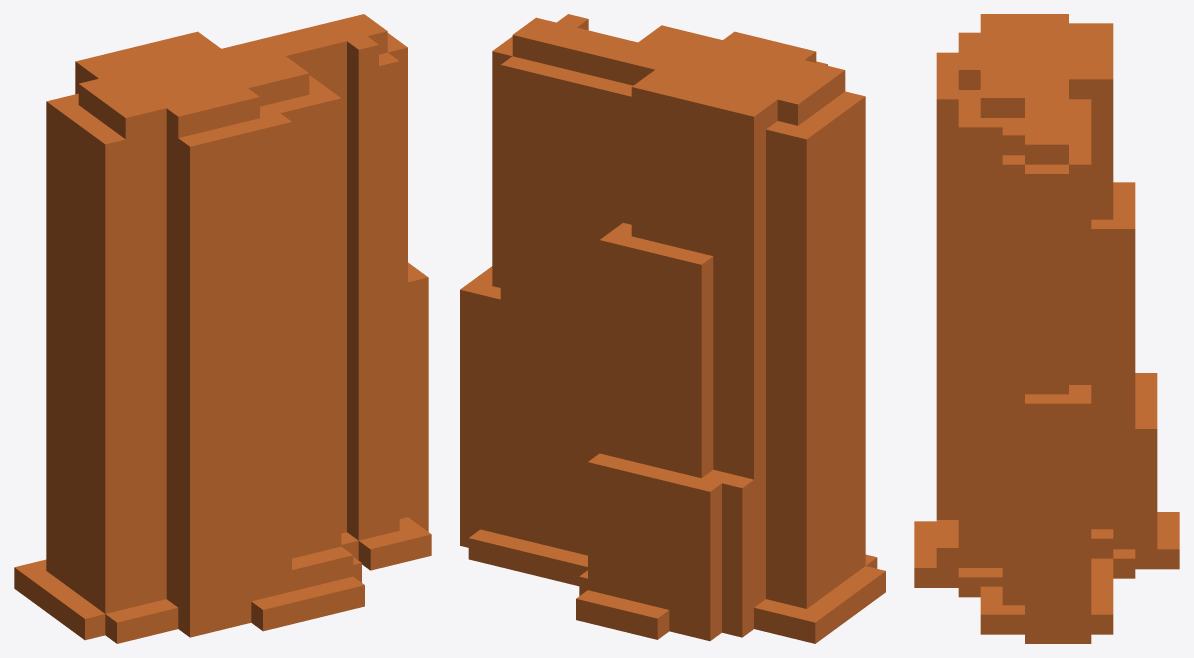
Rendered from Elm_2.obj.
The picture shows the model from 3 angles, left to right: view 1: azimuth 30°, elevation 25°; view 2: azimuth 150°, elevation 25°; view 3: azimuth 270°, elevation 25°; orthographic projection. The views are drawn at different scales.
Bounding box in the file's own units: 18 × 24 × 12.
1 material, 1 textured.
